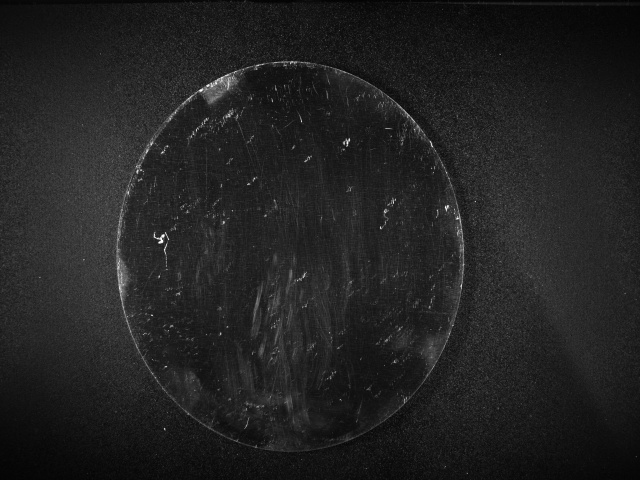zheng_chang: (166, 125, 420, 397)
